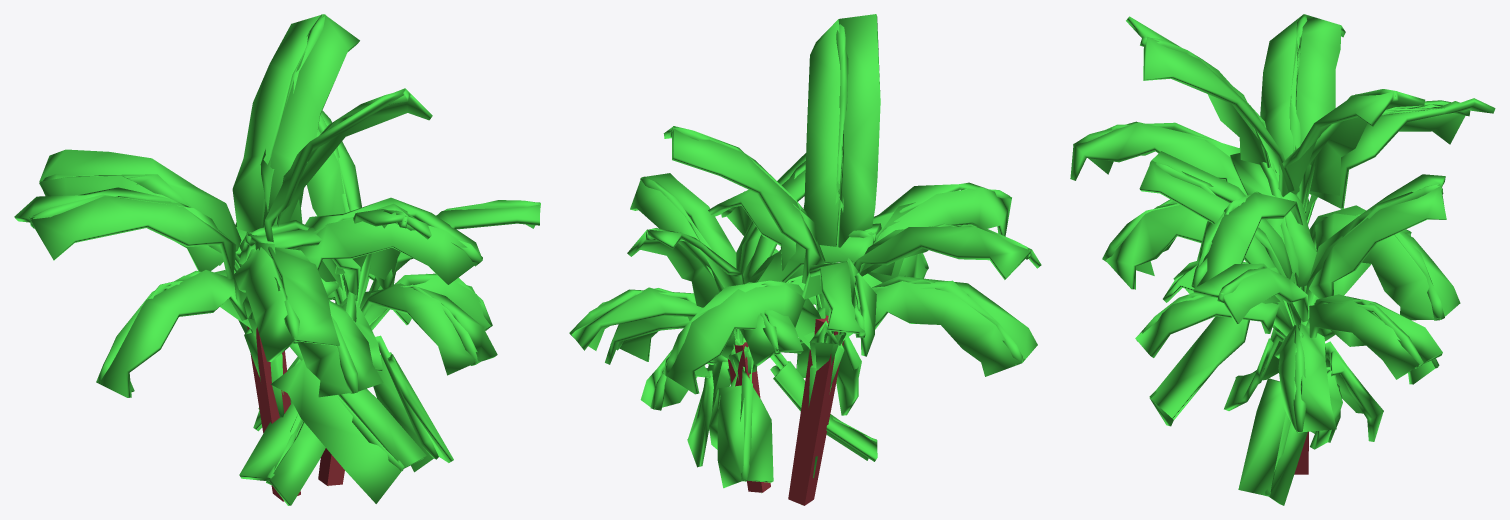
Rendered from bush.fbx.
3 views of the same model, side by side, from view 1: azimuth 30°, elevation 25°; view 2: azimuth 150°, elevation 25°; view 3: azimuth 270°, elevation 25° (orthographic). The views are drawn at different scales.
Visible parts, largest first — view 1: UCX_Banana_Plant_01; view 2: UCX_Banana_Plant_01; view 3: UCX_Banana_Plant_01.
Boxes of the visible parts, x1=… form: UCX_Banana_Plant_01: x1=14, y1=14, x2=540, y2=505; UCX_Banana_Plant_01: x1=569, y1=14, x2=1041, y2=505; UCX_Banana_Plant_01: x1=1070, y1=14, x2=1495, y2=505.
Bounding box in the file's own units: 300 × 284 × 247.
